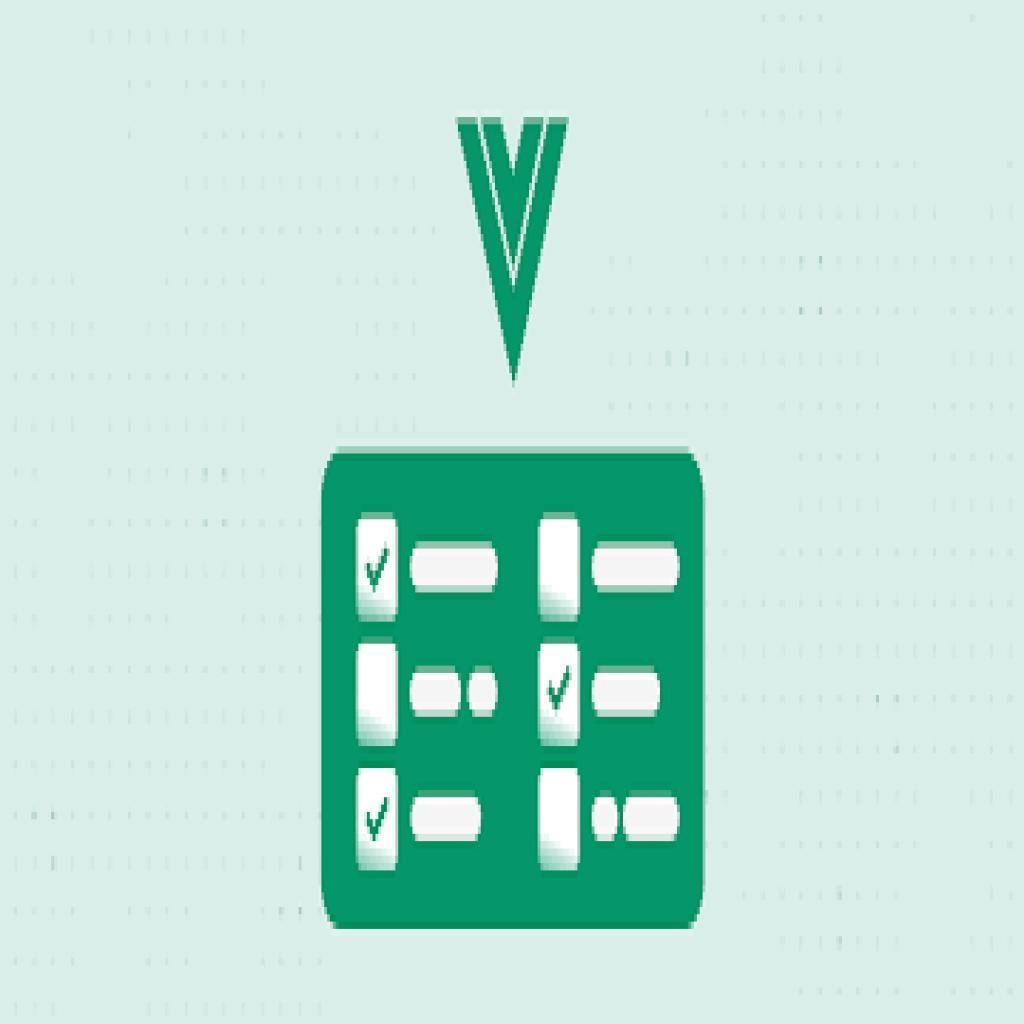checkbox: (536, 510, 584, 625), (355, 514, 400, 625), (539, 768, 583, 874), (357, 769, 400, 876), (356, 643, 399, 747), (540, 642, 581, 747)
label: (592, 537, 687, 598), (408, 538, 504, 598), (589, 789, 686, 847), (410, 664, 500, 721), (407, 788, 490, 846), (590, 665, 667, 721)
